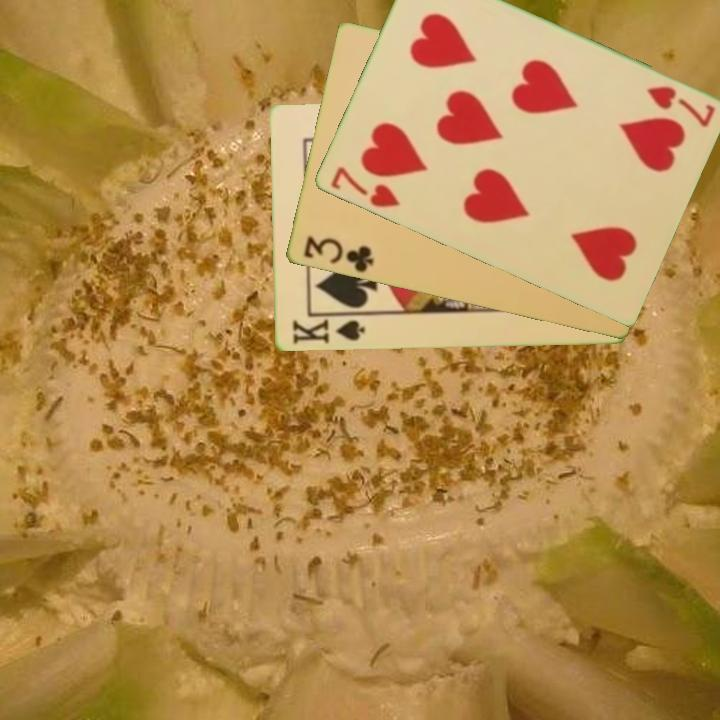3c: (300, 232, 376, 276)
7h: (642, 82, 717, 131), (326, 163, 402, 211)
Ks: (288, 312, 367, 348)
